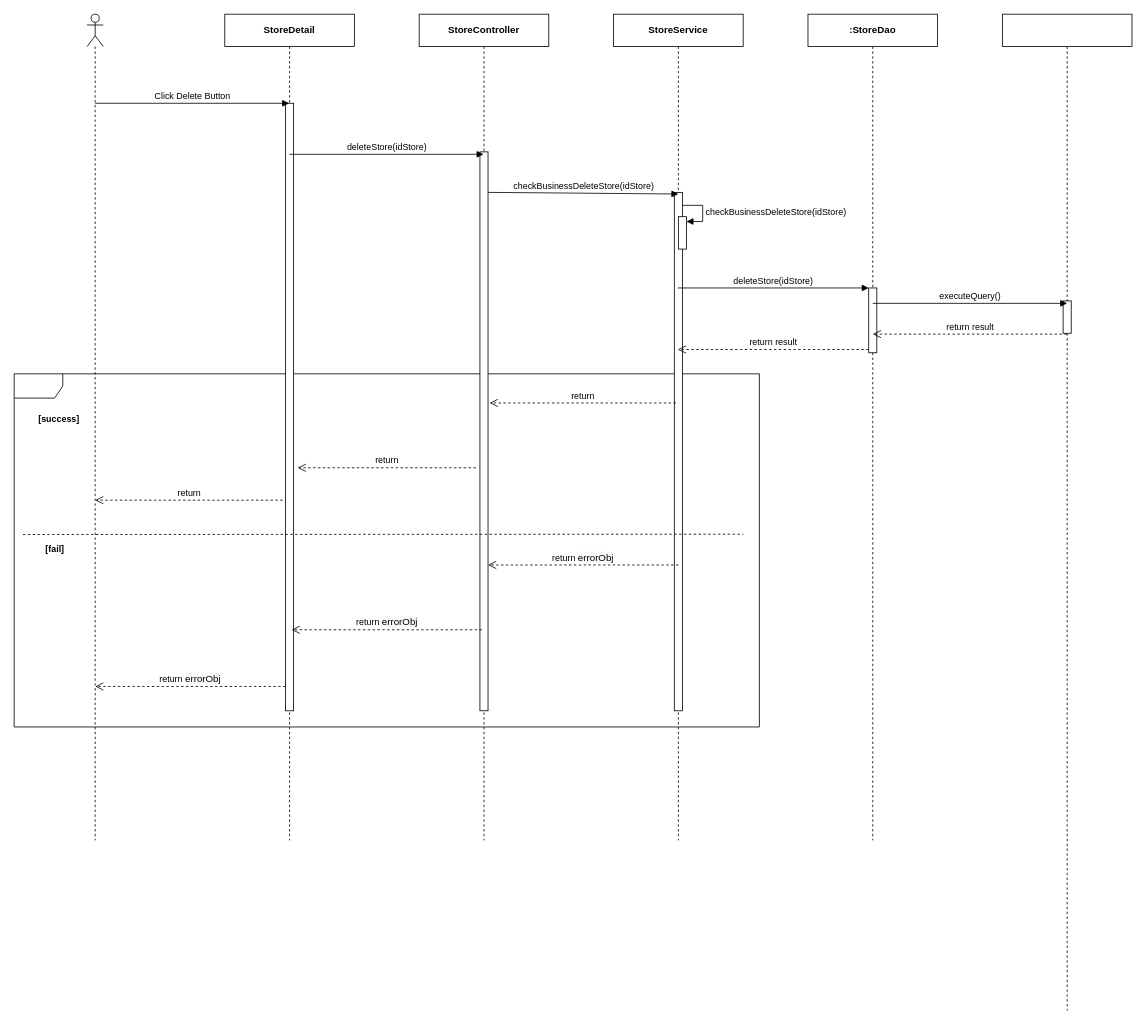
The diagram is 1146 pixels wide and 1025 high, and some of its shapes have lost their labels. Each missing label, with the box of its shape:
alt: (13, 373, 759, 727)
Database: (1002, 13, 1132, 1010)
